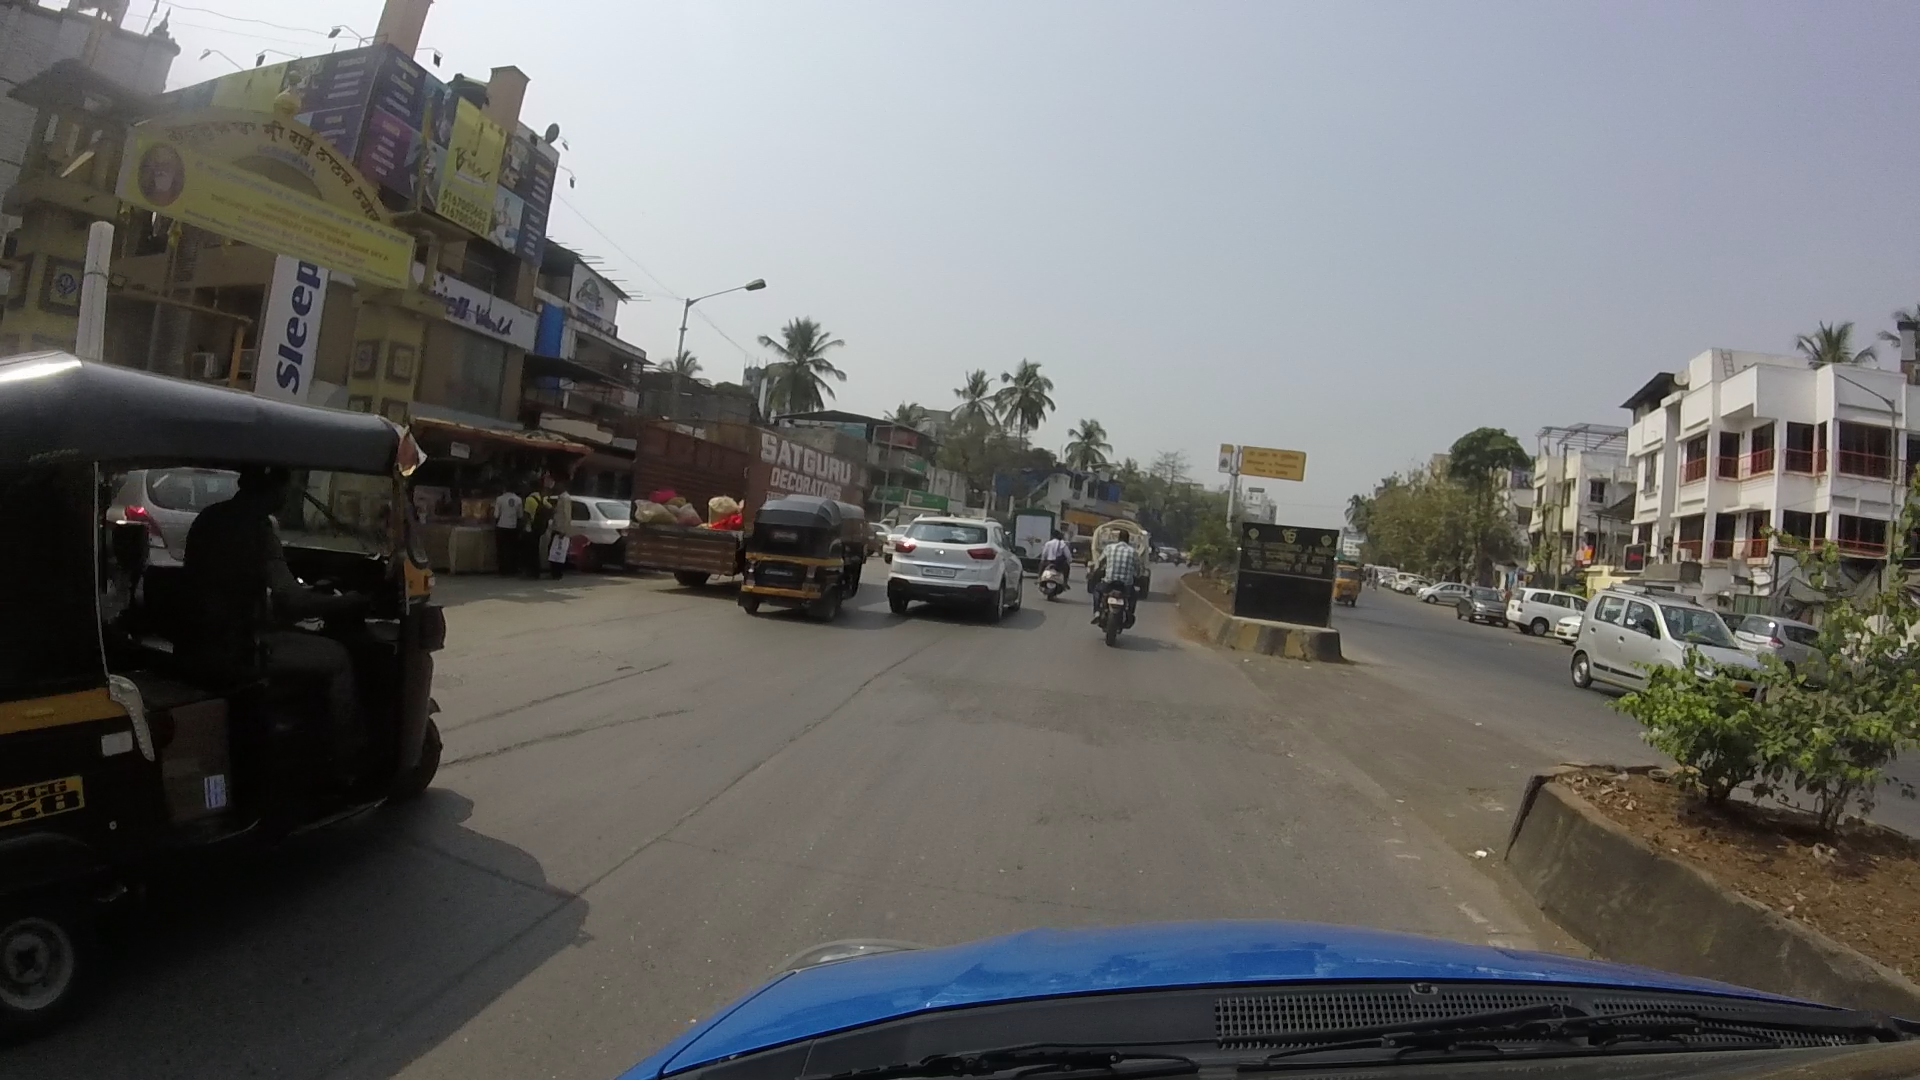bike/scooter: (1091, 531, 1147, 640), (1035, 516, 1079, 607)
car: (1560, 588, 1766, 711), (890, 497, 1015, 622)
rickshaw: (4, 328, 460, 916), (749, 475, 872, 630)
truck: (613, 373, 869, 570)
